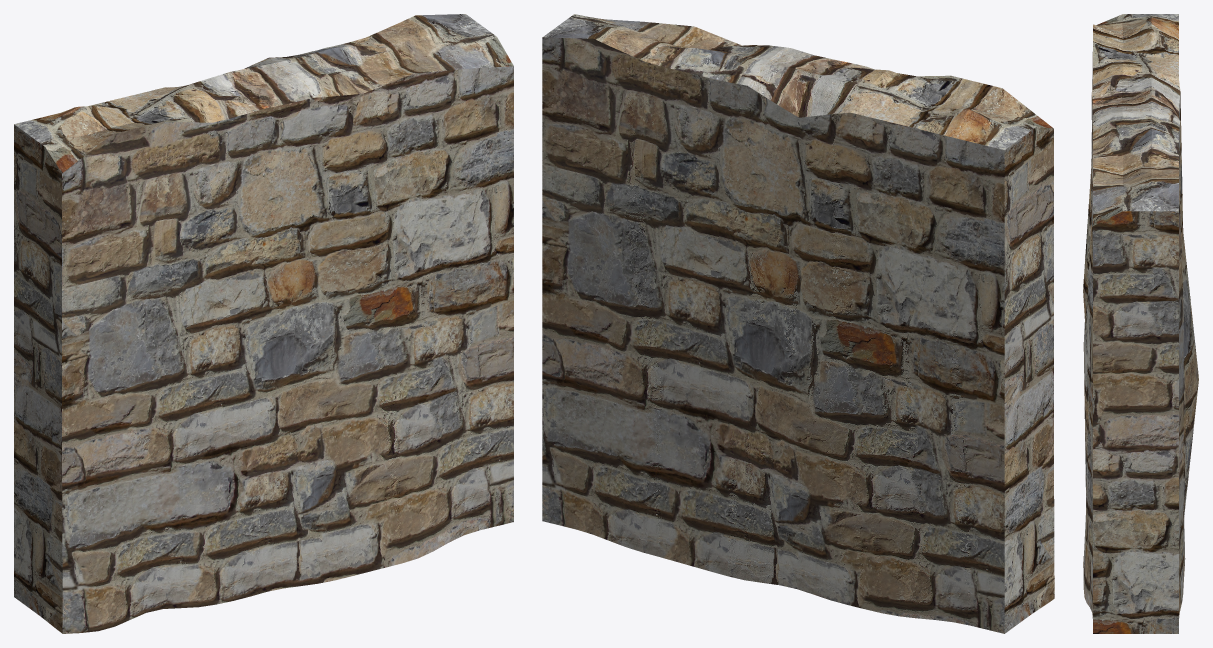
The model's file is Stone Wall.fbx.
The picture shows the model from 3 angles, left to right: view 1: azimuth 30°, elevation 25°; view 2: azimuth 150°, elevation 25°; view 3: azimuth 270°, elevation 25°; orthographic projection. The views are drawn at different scales.
Parts seen in each view (by area): view 1: Cube; view 2: Cube; view 3: Cube.
Boxes of the visible parts, x1,y1,x2,y2 form: Cube: (14, 14, 513, 633); Cube: (542, 14, 1054, 633); Cube: (1083, 14, 1198, 633).
Size of the model in its own units: 400 by 422 by 99.38.
Materials: 1 (1 with a texture image).
